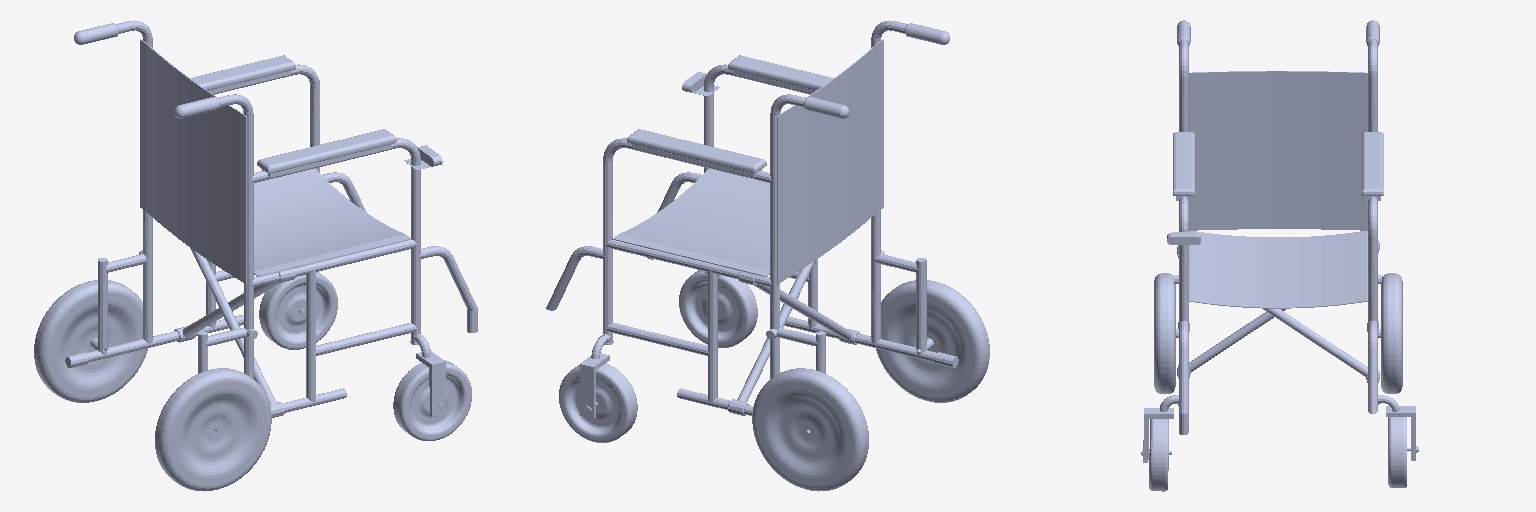
The robot description file, URDF, robot "wheelchair":
<?xml version="1.0" encoding="utf-8"?>
<!-- This URDF was automatically created by SolidWorks to URDF Exporter! Originally created by [author] ([email redacted]) 
     Commit Version: 1.6.0-4-g7f85cfe  Build Version: 1.6.7995.38578
     For more information, please see http://wiki.ros.org/sw_urdf_exporter -->
<robot
  name="wheelchair">

  <link name="base_link"/>

  <link name="base_footprint"/>

  <joint name="base_link_footprint" type="fixed">
    <origin xyz="0 0 0" rpy="0 0 0"/>
    <parent link="base_link"/>
    <child link="base_footprint"/>
  </joint>
  
  <link
    name="chassis">
    <inertial>
      <origin
        xyz="0.10484639272781 0.073636968964456 0.153514665201385"
        rpy="0 0 0" />
      <mass
        value="7.59736709449585" />
      <inertia
        ixx="0.546425292144574"
        ixy="2.71444187071071E-05"
        ixz="-2.05851775873025E-05"
        iyy="0.34354373634181"
        iyz="0.00419612016775444"
        izz="0.301362251907821" />
    </inertial>
    <visual>
      <origin
        xyz="0 0 0"
        rpy="0 0 0" />
      <geometry>
        <mesh
          filename="package://wheelchair_description/meshes/base_link.STL" />
      </geometry>
      <material
        name="">
        <color
          rgba="0.792156862745098 0.819607843137255 0.933333333333333 1" />
      </material>
    </visual>
    <collision>
      <origin
        xyz="0 0 0"
        rpy="0 0 0" />
      <geometry>
        <mesh
          filename="package://wheelchair_description/meshes/base_link.STL" />
      </geometry>
    </collision>
  </link>

  <joint name="connector" type="fixed">
    <origin xyz="0 0 0.4" rpy="0 0 -1.5708"/>
    <parent link="base_link"/>
    <child link="chassis"/>
  </joint>

  <link
    name="right_wheel">
    <inertial>
      <origin
        xyz="3.33066907387547E-16 5.55111512312578E-17 0.016"
        rpy="0 0 0" />
      <mass
        value="3.50680611696861" />
      <inertia
        ixx="0.0255963516724082"
        ixy="-1.70937398033571E-18"
        ixz="3.15506914761784E-19"
        iyy="0.0255963516724082"
        iyz="-3.1730175559619E-19"
        izz="0.049822613384218" />
    </inertial>
    <visual>
      <origin
        xyz="0 0 0"
        rpy="0 0 0" />
      <geometry>
        <mesh
          filename="package://wheelchair_description/meshes/right_wheel.STL" />
      </geometry>
      <material
        name="">
        <color
          rgba="0.792156862745098 0.819607843137255 0.933333333333333 1" />
      </material>
    </visual>
    <collision>
      <origin
        xyz="0 0 0"
        rpy="0 0 0" />
      <geometry>
        <mesh
          filename="package://wheelchair_description/meshes/right_wheel.STL" />
      </geometry>
    </collision>
  </link>
  <joint
    name="wheel2"
    type="continuous">
    <origin
      xyz="0.419776895209797 -0.215361553120041 -0.234883626533637"
      rpy="1.5707963267949 0 -1.5707963267949" />
    <parent
      link="chassis" />
    <child
      link="right_wheel" />
    <axis
      xyz="0 0 1" />
    <limit
      lower="3.14"
      upper="-3.14"
      effort="25"
      velocity="30" />
  </joint>
  <link
    name="left_wheel">
    <inertial>
      <origin
        xyz="5.55111512312578E-16 -1.94289029309402E-16 -0.016"
        rpy="0 0 0" />
      <mass
        value="3.50680611696861" />
      <inertia
        ixx="0.0255963516724082"
        ixy="-1.17781572259513E-18"
        ixz="-1.81400867214797E-19"
        iyy="0.0255963516724082"
        iyz="7.79580771753648E-19"
        izz="0.049822613384218" />
    </inertial>
    <visual>
      <origin
        xyz="0 0 0"
        rpy="0 0 0" />
      <geometry>
        <mesh
          filename="package://wheelchair_description/meshes/left_wheel.STL" />
      </geometry>
      <material
        name="">
        <color
          rgba="0.792156862745098 0.819607843137255 0.933333333333333 1" />
      </material>
    </visual>
    <collision>
      <origin
        xyz="0 0 0"
        rpy="0 0 0" />
      <geometry>
        <mesh
          filename="package://wheelchair_description/meshes/left_wheel.STL" />
      </geometry>
    </collision>
  </link>
  <joint
    name="wheel1"
    type="continuous">
    <origin
      xyz="-0.212223104790203 -0.215361553120041 -0.234883626533637"
      rpy="1.5707963267949 0 -1.5707963267949" />
    <parent
      link="chassis" />
    <child
      link="left_wheel" />
    <axis
      xyz="0 0 1" />
    <limit
      lower="3.14"
      upper="-3.14"
      effort="25"
      velocity="20" />
  </joint>
  <link
    name="depth_camera">
    <inertial>
      <origin
        xyz="5.11643388778626E-06 -0.0126412823426572 0.0318832196549816"
        rpy="0 0 0" />
      <mass
        value="0.053868996809357" />
      <inertia
        ixx="5.73389146352446E-06"
        ixy="2.83934723431709E-11"
        ixz="5.95887379414193E-09"
        iyy="3.51541406621888E-05"
        iyz="1.76753686892829E-07"
        izz="3.49050201173408E-05" />
    </inertial>
    <visual>
      <origin
        xyz="0 0 0"
        rpy="0 0 0" />
      <geometry>
        <mesh
          filename="package://wheelchair_description/meshes/depth_camera.STL" />
      </geometry>
      <material
        name="">
        <color
          rgba="0.792156862745098 0.819607843137255 0.933333333333333 1" />
      </material>
    </visual>
    <collision>
      <origin
        xyz="0 0 0"
        rpy="0 0 0" />
      <geometry>
        <mesh
          filename="package://wheelchair_description/meshes/depth_camera.STL" />
      </geometry>
    </collision>
  </link>
  <joint
    name="camera"
    type="fixed">
    <origin
      xyz="0.353776895209797 0.399309796820887 0.330742227523792"
      rpy="-1.5707963267949 0 0" />
    <parent
      link="chassis" />
    <child
      link="depth_camera" />
    <axis
      xyz="0 0 0" />
  </joint>
  <link
    name="laser">
    <inertial>
      <origin
        xyz="-0.0031141572559561 0.0178937929425151 -0.00722245659832399"
        rpy="0 0 0" />
      <mass
        value="0.130163989740365" />
      <inertia
        ixx="0.000543721028964252"
        ixy="6.69207347695983E-05"
        ixz="-1.11382462752139E-05"
        iyy="8.37023933918083E-05"
        iyz="5.959187228326E-05"
        izz="0.000574435007030532" />
    </inertial>
    <visual>
      <origin
        xyz="0 0 0"
        rpy="0 0 0" />
      <geometry>
        <mesh
          filename="package://wheelchair_description/meshes/laser.STL" />
      </geometry>
      <material
        name="">
        <color
          rgba="0.792156862745098 0.819607843137255 0.933333333333333 1" />
      </material>
    </visual>
    <collision>
      <origin
        xyz="0 0 0"
        rpy="0 0 0" />
      <geometry>
        <mesh
          filename="package://wheelchair_description/meshes/laser.STL" />
      </geometry>
    </collision>
  </link>
  <joint
    name="laser"
    type="fixed">
    <origin
      xyz="0.371779888026633 0.641320401923623 -0.147011314279618"
      rpy="-3.14102888262169 0 0" />
    <parent
      link="chassis" />
    <child
      link="laser" />
    <axis
      xyz="0 0 0" />
  </joint>
  <link
    name="front_left_wheel_hub">
    <inertial>
      <origin
        xyz="-0.0325142015444485 0.00527393042209373 0.0427071352040033"
        rpy="0 0 0" />
      <mass
        value="0.119259145323825" />
      <inertia
        ixx="0.000240714400853056"
        ixy="-2.44937866775817E-07"
        ixz="6.08937837656814E-05"
        iyy="0.000282246549115253"
        iyz="5.98860399172328E-07"
        izz="7.18721140751427E-05" />
    </inertial>
    <visual>
      <origin
        xyz="0 0 0"
        rpy="0 0 0" />
      <geometry>
        <mesh
          filename="package://wheelchair_description/meshes/front_left_wheel_hub.STL" />
      </geometry>
      <material
        name="">
        <color
          rgba="0.792156862745098 0.819607843137255 0.933333333333333 1" />
      </material>
    </visual>
    <collision>
      <origin
        xyz="0 0 0"
        rpy="0 0 0" />
      <geometry>
        <mesh
          filename="package://wheelchair_description/meshes/front_left_wheel_hub.STL" />
      </geometry>
    </collision>
  </link>
  <joint
    name="wheel3_hub"
    type="continuous">
    <origin
      xyz="-0.207734784402671 0.394724880917965 -0.185925069075475"
      rpy="3.14159265358979 0 0" />
    <parent
      link="chassis" />
    <child
      link="front_left_wheel_hub" />
    <axis
      xyz="0 0 1" />
    <limit
      lower="-3.14"
      upper="3.14"
      effort="25"
      velocity="20" />
  </joint>
  <link
    name="front_left_wheel">
    <inertial>
      <origin
        xyz="-2.77555756156289E-17 1.11022302462516E-16 0.0546475439429088"
        rpy="0 0 0" />
      <mass
        value="1.00840738996709" />
      <inertia
        ixx="0.00353804709901058"
        ixy="-2.74341667867365E-19"
        ixz="-3.8938226980424E-20"
        iyy="0.00353804709901058"
        iyz="8.73392799391558E-19"
        izz="0.00677737207942363" />
    </inertial>
    <visual>
      <origin
        xyz="0 0 0"
        rpy="0 0 0" />
      <geometry>
        <mesh
          filename="package://wheelchair_description/meshes/front_left_wheel.STL" />
      </geometry>
      <material
        name="">
        <color
          rgba="0.792156862745098 0.819607843137255 0.933333333333333 1" />
      </material>
    </visual>
    <collision>
      <origin
        xyz="0 0 0"
        rpy="0 0 0" />
      <geometry>
        <mesh
          filename="package://wheelchair_description/meshes/front_left_wheel.STL" />
      </geometry>
    </collision>
  </link>
  <joint
    name="wheel3"
    type="continuous">
    <origin
      xyz="-0.058754 0.0099909 0.10645"
      rpy="0 -1.5708 -3.1416" />
    <parent
      link="front_left_wheel_hub" />
    <child
      link="front_left_wheel" />
    <axis
      xyz="0 0 1" />
    <limit
      lower="-3.14"
      upper="3.14"
      effort="25"
      velocity="20" />
  </joint>
  <link
    name="front_right_wheel_hub">
    <inertial>
      <origin
        xyz="0.00524189432831379 0.0326650088917544 0.0422742354329876"
        rpy="0 0 0" />
      <mass
        value="0.118454638850066" />
      <inertia
        ixx="0.000282225661471367"
        ixy="2.44937879678304E-07"
        ixz="5.98860392044522E-07"
        iyy="0.000240674961428723"
        iyz="-6.08937837768515E-05"
        izz="7.18512264955745E-05" />
    </inertial>
    <visual>
      <origin
        xyz="0 0 0"
        rpy="0 0 0" />
      <geometry>
        <mesh
          filename="package://wheelchair_description/meshes/front_right_wheel_hub.STL" />
      </geometry>
      <material
        name="">
        <color
          rgba="0.792156862745098 0.819607843137255 0.933333333333333 1" />
      </material>
    </visual>
    <collision>
      <origin
        xyz="0 0 0"
        rpy="0 0 0" />
      <geometry>
        <mesh
          filename="package://wheelchair_description/meshes/front_right_wheel_hub.STL" />
      </geometry>
    </collision>
  </link>
  <joint
    name="wheel4_hub"
    type="continuous">
    <origin
      xyz="0.406896116139023 0.394724840831582 -0.185792537423861"
      rpy="3.1301363869966 0 1.57079632679489" />
    <parent
      link="chassis" />
    <child
      link="front_right_wheel_hub" />
    <axis
      xyz="0 0 1" />
    <limit
      lower="-3.14"
      upper="3.14"
      effort="25"
      velocity="20" />
  </joint>
  <link
    name="front_right_wheel">
    <inertial>
      <origin
        xyz="0 -2.22044604925031E-16 0.0464962670274469"
        rpy="0 0 0" />
      <mass
        value="1.00840738996709" />
      <inertia
        ixx="0.00353804709901059"
        ixy="9.98503707475614E-20"
        ixz="-6.43745039913268E-20"
        iyy="0.00353804709901059"
        iyz="3.25489270032535E-19"
        izz="0.00677737207942364" />
    </inertial>
    <visual>
      <origin
        xyz="0 0 0"
        rpy="0 0 0" />
      <geometry>
        <mesh
          filename="package://wheelchair_description/meshes/front_right_wheel.STL" />
      </geometry>
      <material
        name="">
        <color
          rgba="0.792156862745098 0.819607843137255 0.933333333333333 1" />
      </material>
    </visual>
    <collision>
      <origin
        xyz="0 0 0"
        rpy="0 0 0" />
      <geometry>
        <mesh
          filename="package://wheelchair_description/meshes/front_right_wheel.STL" />
      </geometry>
    </collision>
  </link>
  <joint
    name="wheel4"
    type="continuous">
    <origin
      xyz="0.0099909 0.057754 0.10645"
      rpy="1.5102 1.5708 -0.060599" />
    <parent
      link="front_right_wheel_hub" />
    <child
      link="front_right_wheel" />
    <axis
      xyz="0 0 1" />
    <limit
      lower="-3.14"
      upper="3.14"
      effort="25"
      velocity="20" />
  </joint>

  <link name="camera_link"/>

  <joint name="camera_link" type="fixed">
    <origin xyz="0 0 0" rpy="1.5708 -1.5708 0" />
    <parent link="depth_camera" />
    <child link="camera_link" />
    <axis xyz="0 0 0" />
  </joint>
  
    <!-- Camera plugin -->
  <gazebo reference="camera_link"> <!--XYZ Frame-->
    <sensor name="d435i_realsense_depth" type="depth">
      <update_rate>20</update_rate>
      <camera>
        <horizontal_fov>1.047198</horizontal_fov>
        <image>
          <width>1920</width>
          <height>1080</height>
          <format>R8G8B8</format>
        </image>
        <clip>
          <near>0.05</near>
          <far>30</far>
        </clip>
      </camera>
      <plugin name="kinect_controller" filename="libgazebo_ros_openni_kinect.so">
        <baseline>0.2</baseline>
        <alwaysOn>true</alwaysOn>
        <updateRate>50.0</updateRate>
        <cameraName>d435i_realsense_depth</cameraName>
        <imageTopicName>/camera/color/image_raw</imageTopicName>
        <cameraInfoTopicName>/camera/color/camera_info</cameraInfoTopicName>
        <depthImageTopicName>/camera/depth/image_raw</depthImageTopicName>
        <depthImageInfoTopicName>/camera/depth/camera_info</depthImageInfoTopicName>
        <pointCloudTopicName>/camera/depth/color/points</pointCloudTopicName>
        <frameName>depth_camera</frameName>   <!--ZYX Frame-->
        <pointCloudCutoff>0.5</pointCloudCutoff>
        <pointCloudCutoffMax>3.0</pointCloudCutoffMax>
        <distortionK1>0.00000001</distortionK1>
        <distortionK2>0.00000001</distortionK2>
        <distortionK3>0.00000001</distortionK3>
        <distortionT1>0.00000001</distortionT1>
        <distortionT2>0.00000001</distortionT2>
        <CxPrime>0</CxPrime>
        <Cx>0</Cx>
        <Cy>0</Cy>
        <focalLength>0</focalLength>
        <hackBaseline>0</hackBaseline>
      </plugin>
    </sensor>
  </gazebo>

  <gazebo reference="laser">
    <sensor name="head_hokuyo_sensor" type="ray">
      <pose>0 0 0 0 0 0</pose>
      <visualize>true</visualize>
      <update_rate>40</update_rate>
      <ray>
        <scan>
          <horizontal>
            <samples>720</samples>
            <resolution>1</resolution>
            <min_angle>-3.14</min_angle>
            <max_angle>3.14</max_angle>
          </horizontal>
        </scan>
        <range>
          <min>0.2</min>
          <max>10.1</max>
          <resolution>0.01</resolution>
        </range>
        <noise>
          <type>gaussian</type>
          <mean>0.0</mean>
          <stddev>0.02</stddev>
        </noise>
      </ray>
      <plugin filename="libgazebo_ros_laser.so" name="gazebo_ros_head_hokuyo_controller">
        <topicName>scan</topicName>
        <frameName>laser</frameName>
      </plugin>
    </sensor>
  </gazebo>

  <gazebo>
    <plugin filename="libgazebo_ros_diff_drive.so" name="differential_drive_controller">
      <alwaysOn>true</alwaysOn>
      <updateRate>50</updateRate>
      <leftJoint>wheel1</leftJoint>
      <rightJoint>wheel2</rightJoint>
      <wheelSeparation>0.643</wheelSeparation>
      <wheelDiameter>0.33</wheelDiameter>
      <torque>20</torque>
      <commandTopic>cmd_vel</commandTopic>
      <odometryTopic>odom</odometryTopic>
      <odometryFrame>odom</odometryFrame>
      <robotBaseFrame>base_footprint</robotBaseFrame>
      <publishTf>0</publishTf>
    </plugin>
  </gazebo>

</robot>

--- Render facts (derived) ---
Views: 3 orthographic renders of the robot side by side, from view 1: azimuth 30°, elevation 25°; view 2: azimuth 150°, elevation 25°; view 3: azimuth 270°, elevation 25°.
Robot: wheelchair — 12 links, 11 joints (6 continuous, 5 fixed); root link base_link; default pose: every joint at zero.
Visible links, largest first — view 1: chassis, right_wheel, left_wheel, front_right_wheel, front_left_wheel, front_right_wheel_hub; view 2: chassis, left_wheel, right_wheel, front_left_wheel, front_right_wheel, front_left_wheel_hub; view 3: chassis, left_wheel, right_wheel, front_right_wheel, front_left_wheel, front_right_wheel_hub, front_left_wheel_hub.
Boxes of the visible links, x1,y1,x2,y2 form: chassis: [65, 20, 477, 417]; right_wheel: [155, 368, 271, 491]; left_wheel: [34, 280, 147, 402]; front_right_wheel: [393, 360, 471, 440]; front_left_wheel: [259, 272, 337, 349]; front_right_wheel_hub: [416, 351, 445, 416]; chassis: [546, 20, 958, 415]; left_wheel: [752, 368, 868, 491]; right_wheel: [876, 280, 989, 402]; front_left_wheel: [559, 363, 637, 442]; front_right_wheel: [679, 270, 757, 347]; front_left_wheel_hub: [580, 353, 609, 418]; chassis: [1160, 20, 1399, 434]; left_wheel: [1381, 273, 1402, 393]; right_wheel: [1154, 273, 1175, 393]; front_right_wheel: [1149, 419, 1168, 491]; front_left_wheel: [1388, 417, 1406, 487]; front_right_wheel_hub: [1141, 408, 1173, 462]; front_left_wheel_hub: [1386, 406, 1418, 460].
Bounding box of the posed robot: 0.9459 × 0.7324 × 1.04 m (x, y, z).
8 mesh visuals loaded from 9 distinct referenced files (8 binary STL); not drawn: 1 (reference not matched to a file when rendering).
